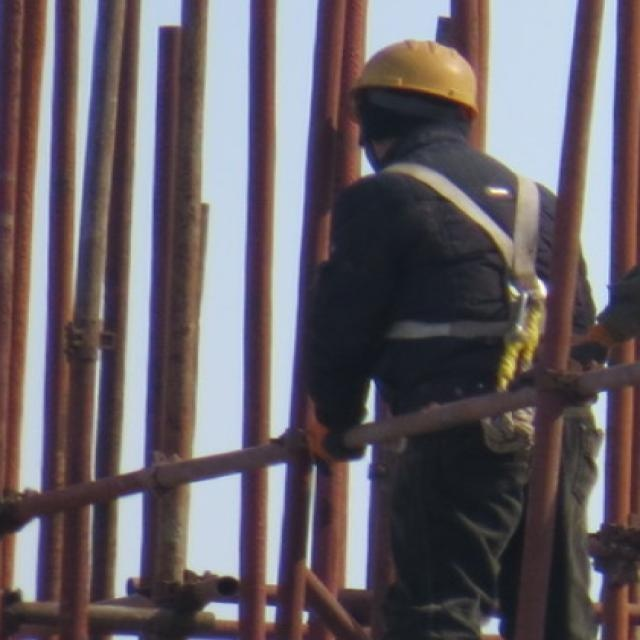Arnes_seguridad: (363, 150, 553, 360)
